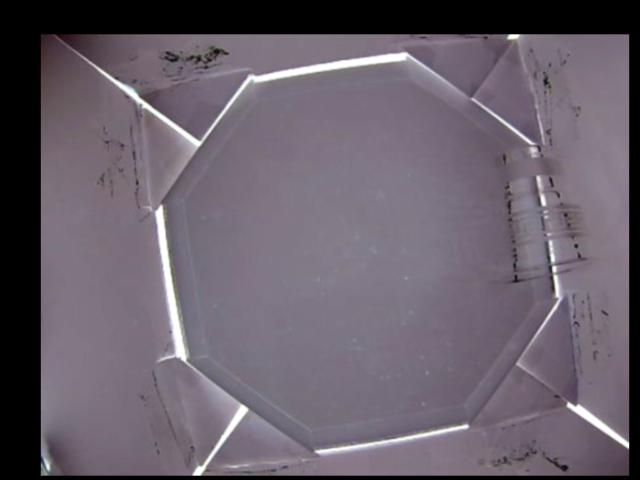Cup: (486, 144, 593, 288)
